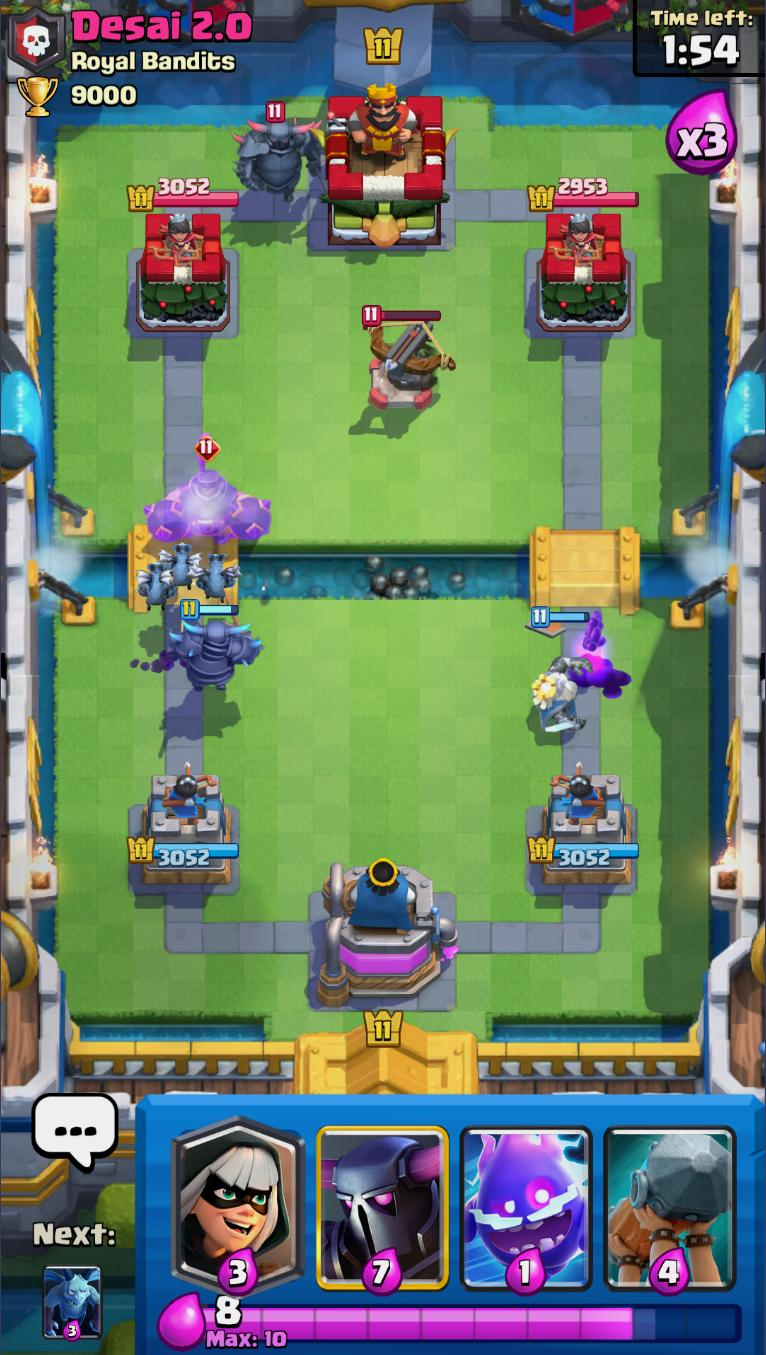BanditDeck: (164, 1096, 313, 1294)
BattleRamDeck: (599, 1094, 741, 1296)
ElectroSpiritDeck: (456, 1096, 597, 1294)
Elixir: (201, 1296, 741, 1351)
EnemyTower: (136, 211, 234, 331), (538, 209, 632, 333), (129, 178, 239, 212), (529, 178, 640, 211)
EvoMegaKnight: (141, 433, 277, 544)
KingTower: (311, 79, 459, 246)
MinionsNext: (41, 1263, 103, 1343)
MyKingTower: (317, 860, 460, 1007)
MyMinion: (133, 559, 179, 614), (159, 539, 207, 589), (197, 549, 240, 600)
MyPekka: (166, 599, 266, 694)
MyPrincessTower: (129, 771, 240, 889), (531, 773, 639, 889)
MyPrincessTowerHP: (126, 836, 241, 867), (531, 835, 640, 866)
MyRoyaleGhost: (528, 605, 588, 735)
Pekka: (231, 101, 327, 200)
PekkaDeck: (311, 1099, 454, 1296)
PrincessTower: (550, 211, 605, 264), (149, 213, 204, 264)
XBow: (356, 304, 459, 410)
